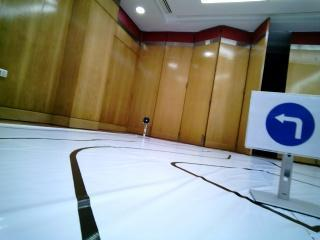left: (257, 96, 320, 153)
